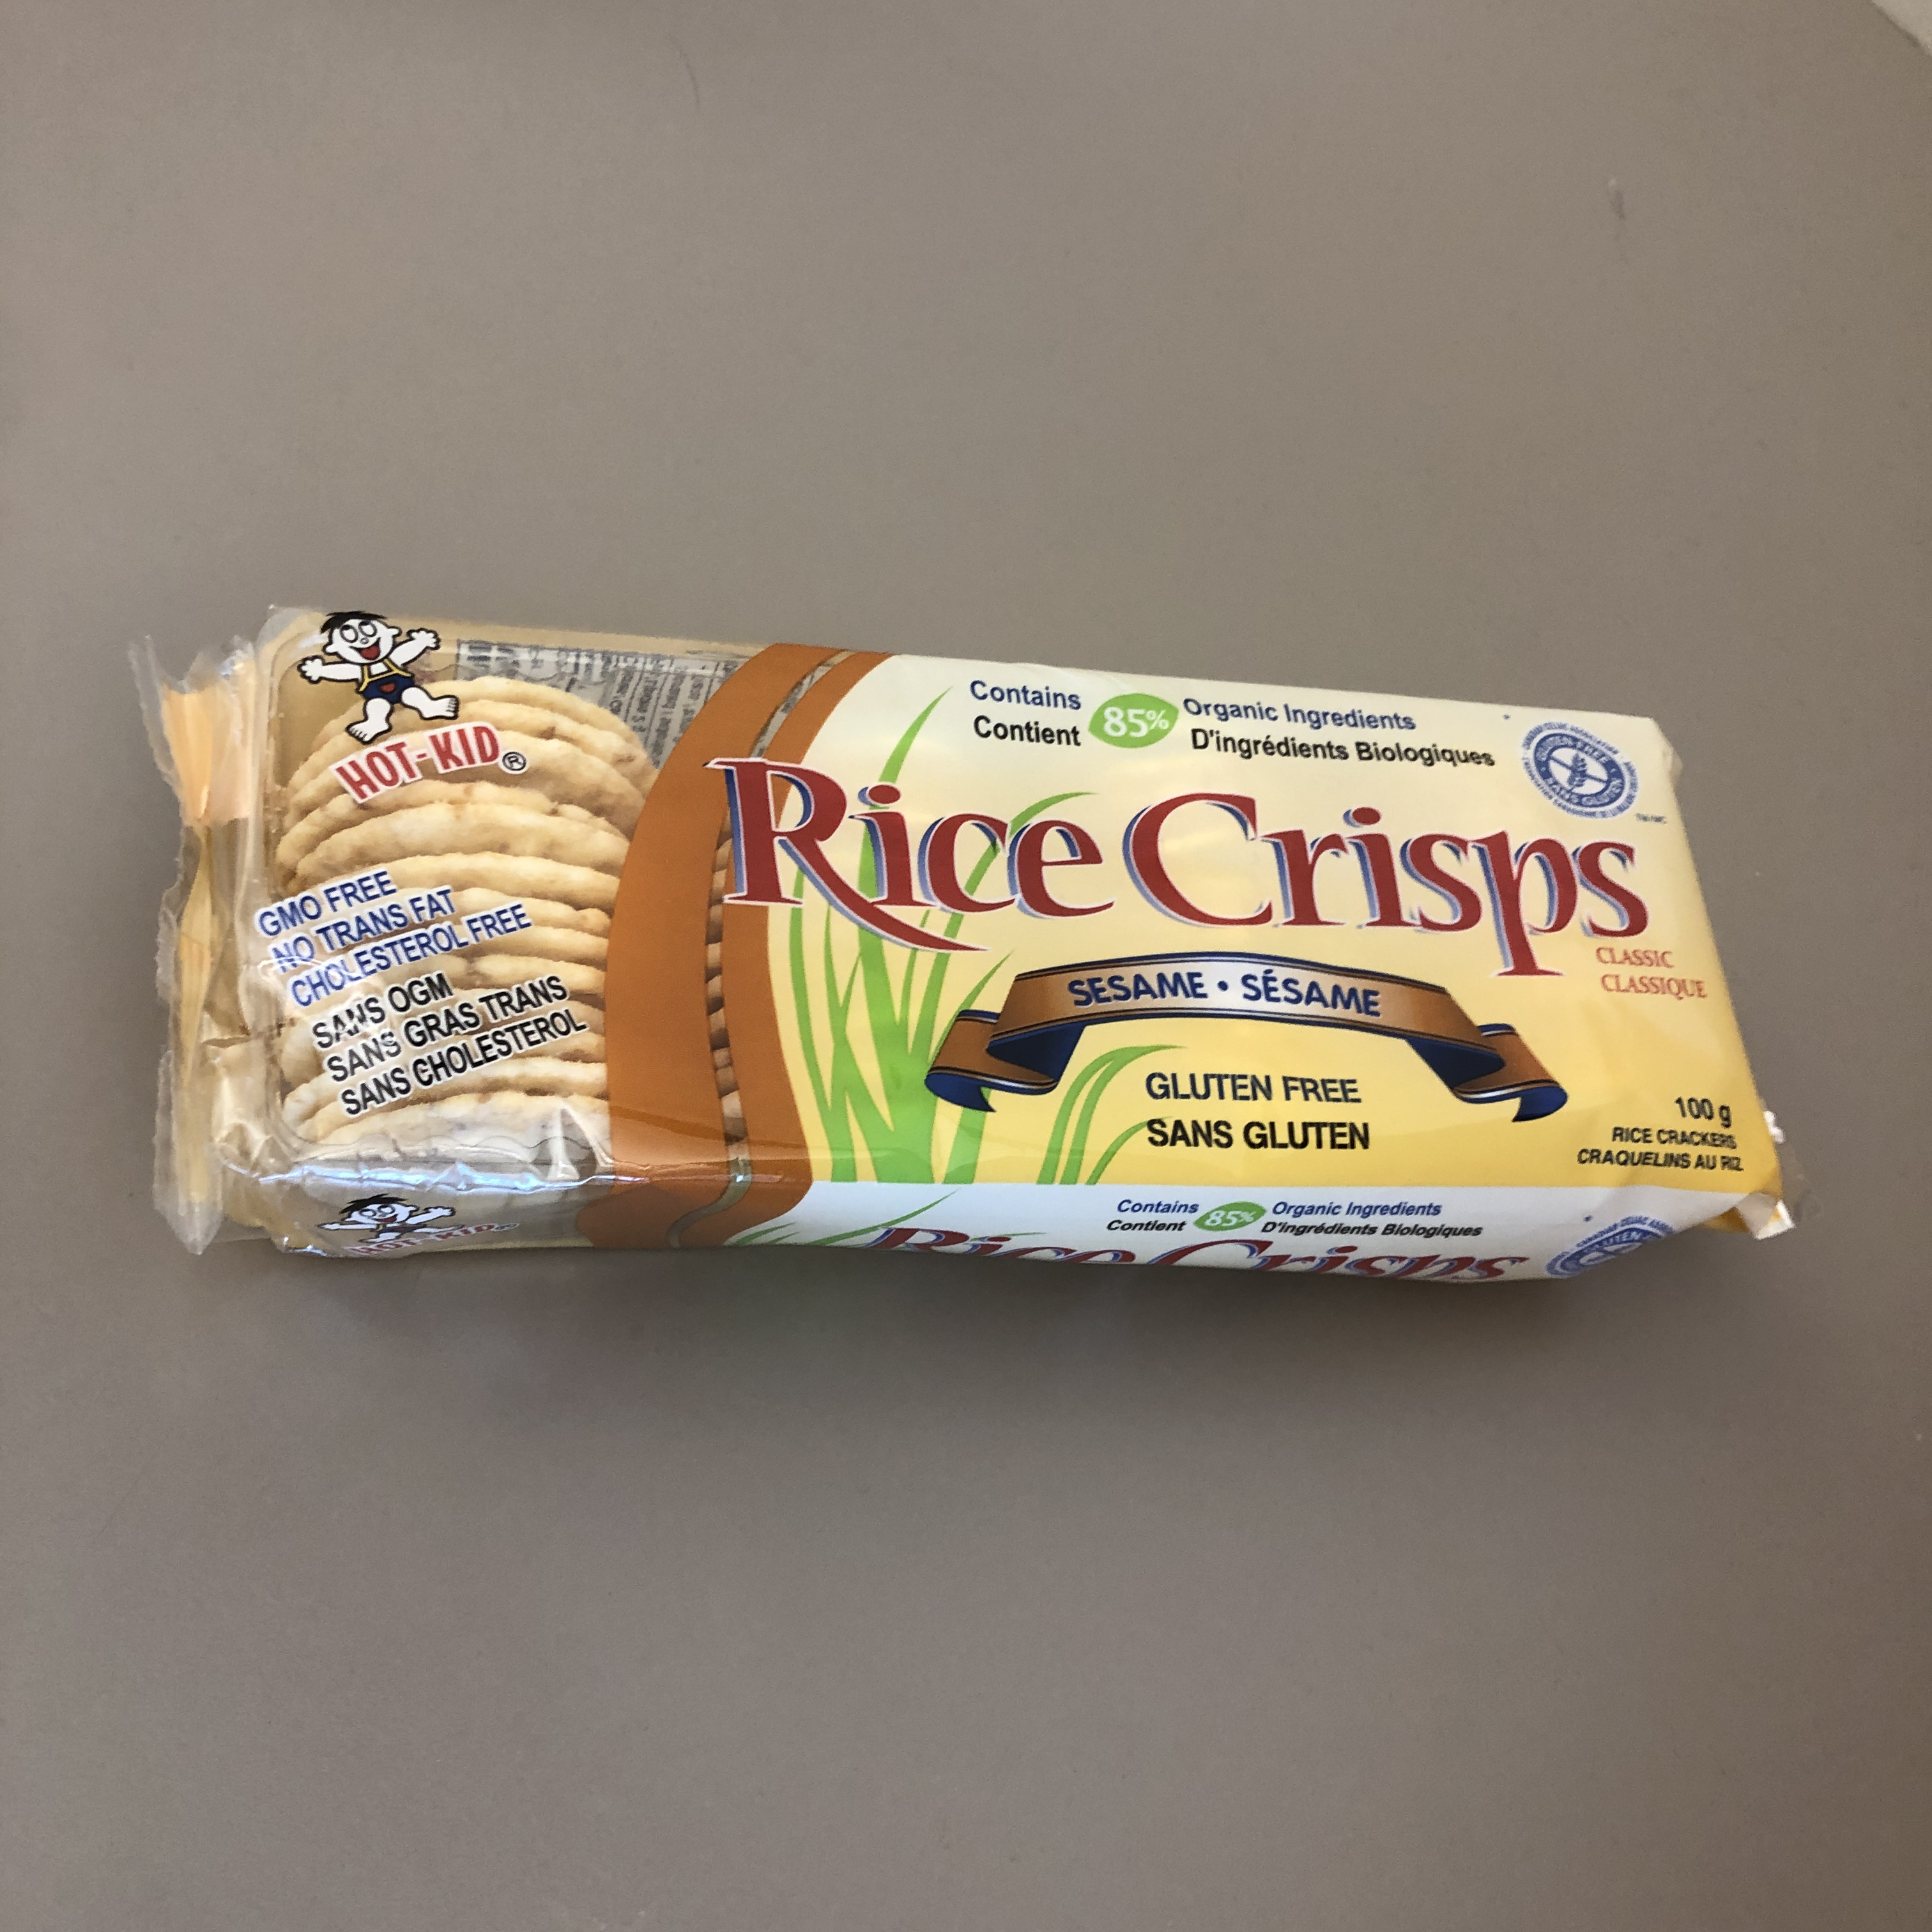hot_kid_rice_crisps_sesame: (591, 246, 1266, 1705)
